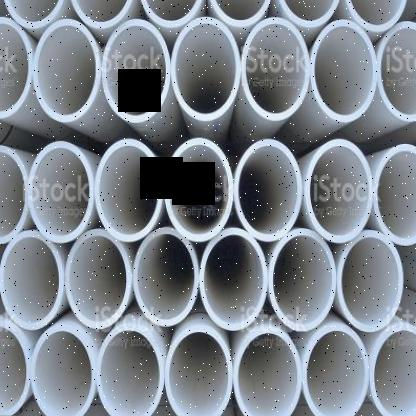pipe: (241, 17, 311, 121), (164, 137, 233, 242), (198, 229, 268, 332), (172, 16, 240, 122), (234, 138, 303, 242), (268, 229, 337, 332), (306, 138, 372, 244), (310, 19, 377, 123), (102, 20, 170, 122), (95, 139, 162, 242), (34, 19, 100, 122), (337, 230, 403, 332), (29, 140, 94, 243), (66, 228, 132, 329), (134, 228, 200, 327), (95, 324, 165, 416), (0, 229, 63, 330), (164, 324, 233, 416), (301, 323, 368, 416), (30, 323, 95, 416), (234, 326, 301, 416), (373, 144, 416, 248), (370, 323, 416, 416), (376, 20, 416, 123), (0, 17, 33, 118), (0, 144, 30, 245), (0, 318, 30, 415), (342, 0, 408, 33), (65, 0, 136, 28), (274, 0, 341, 27), (1, 0, 67, 27), (140, 0, 204, 27), (208, 0, 273, 25)
